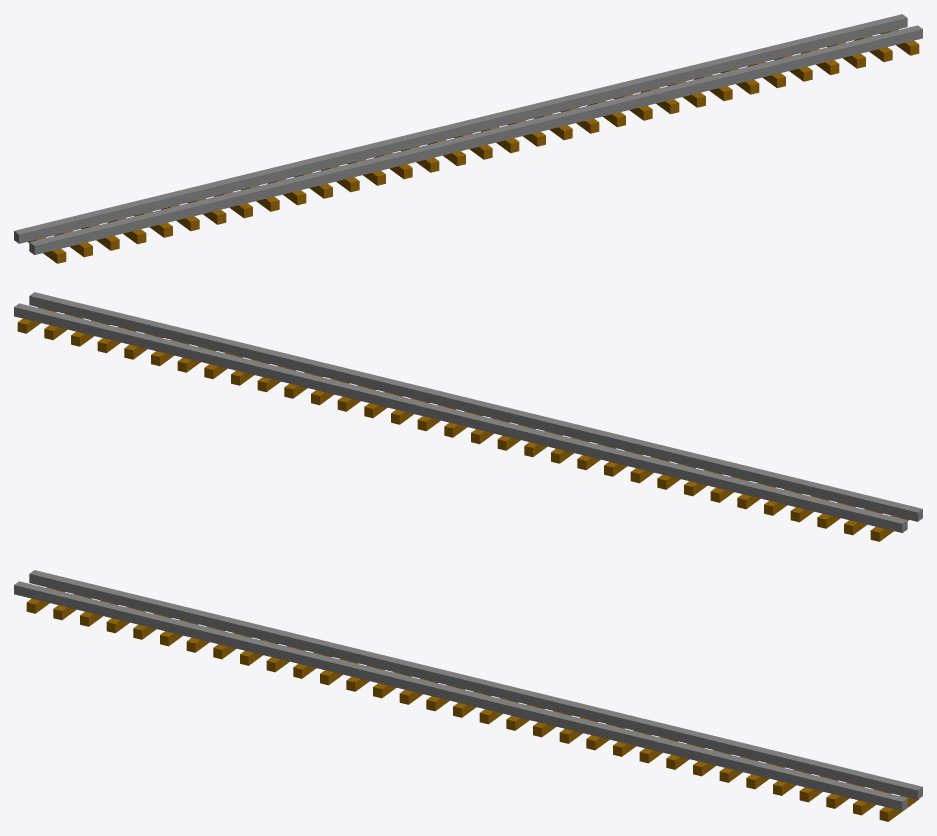
Rendered from bigtraintrack.obj.
The picture shows the model from 3 angles, top to bottom: view 1: azimuth 30°, elevation 25°; view 2: azimuth 150°, elevation 25°; view 3: azimuth 330°, elevation 25°; orthographic projection.
Size of the model in its own units: 100 by 2 by 6.
Materials: 1 (1 with a texture image).
